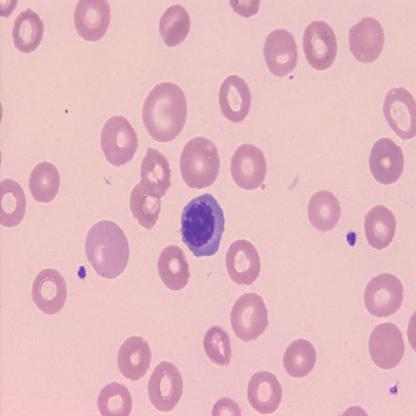NRC: (177, 190, 226, 260)
